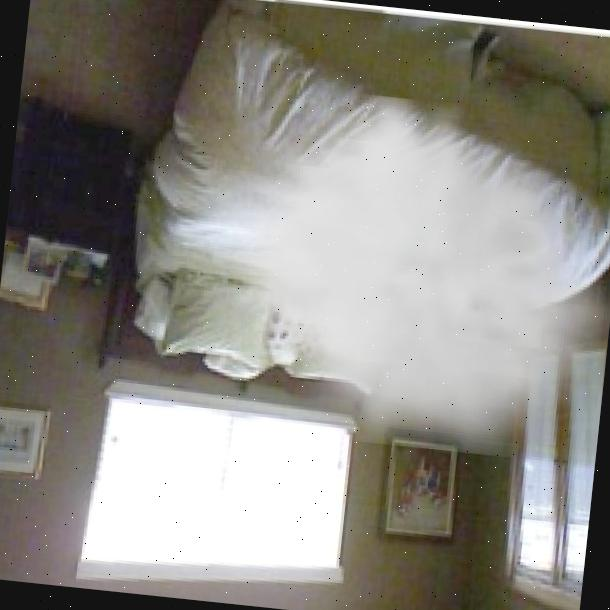smoke: (196, 81, 610, 466)
